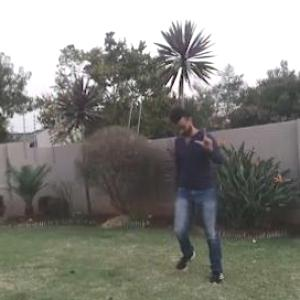land_hand: (196, 122, 215, 152)
